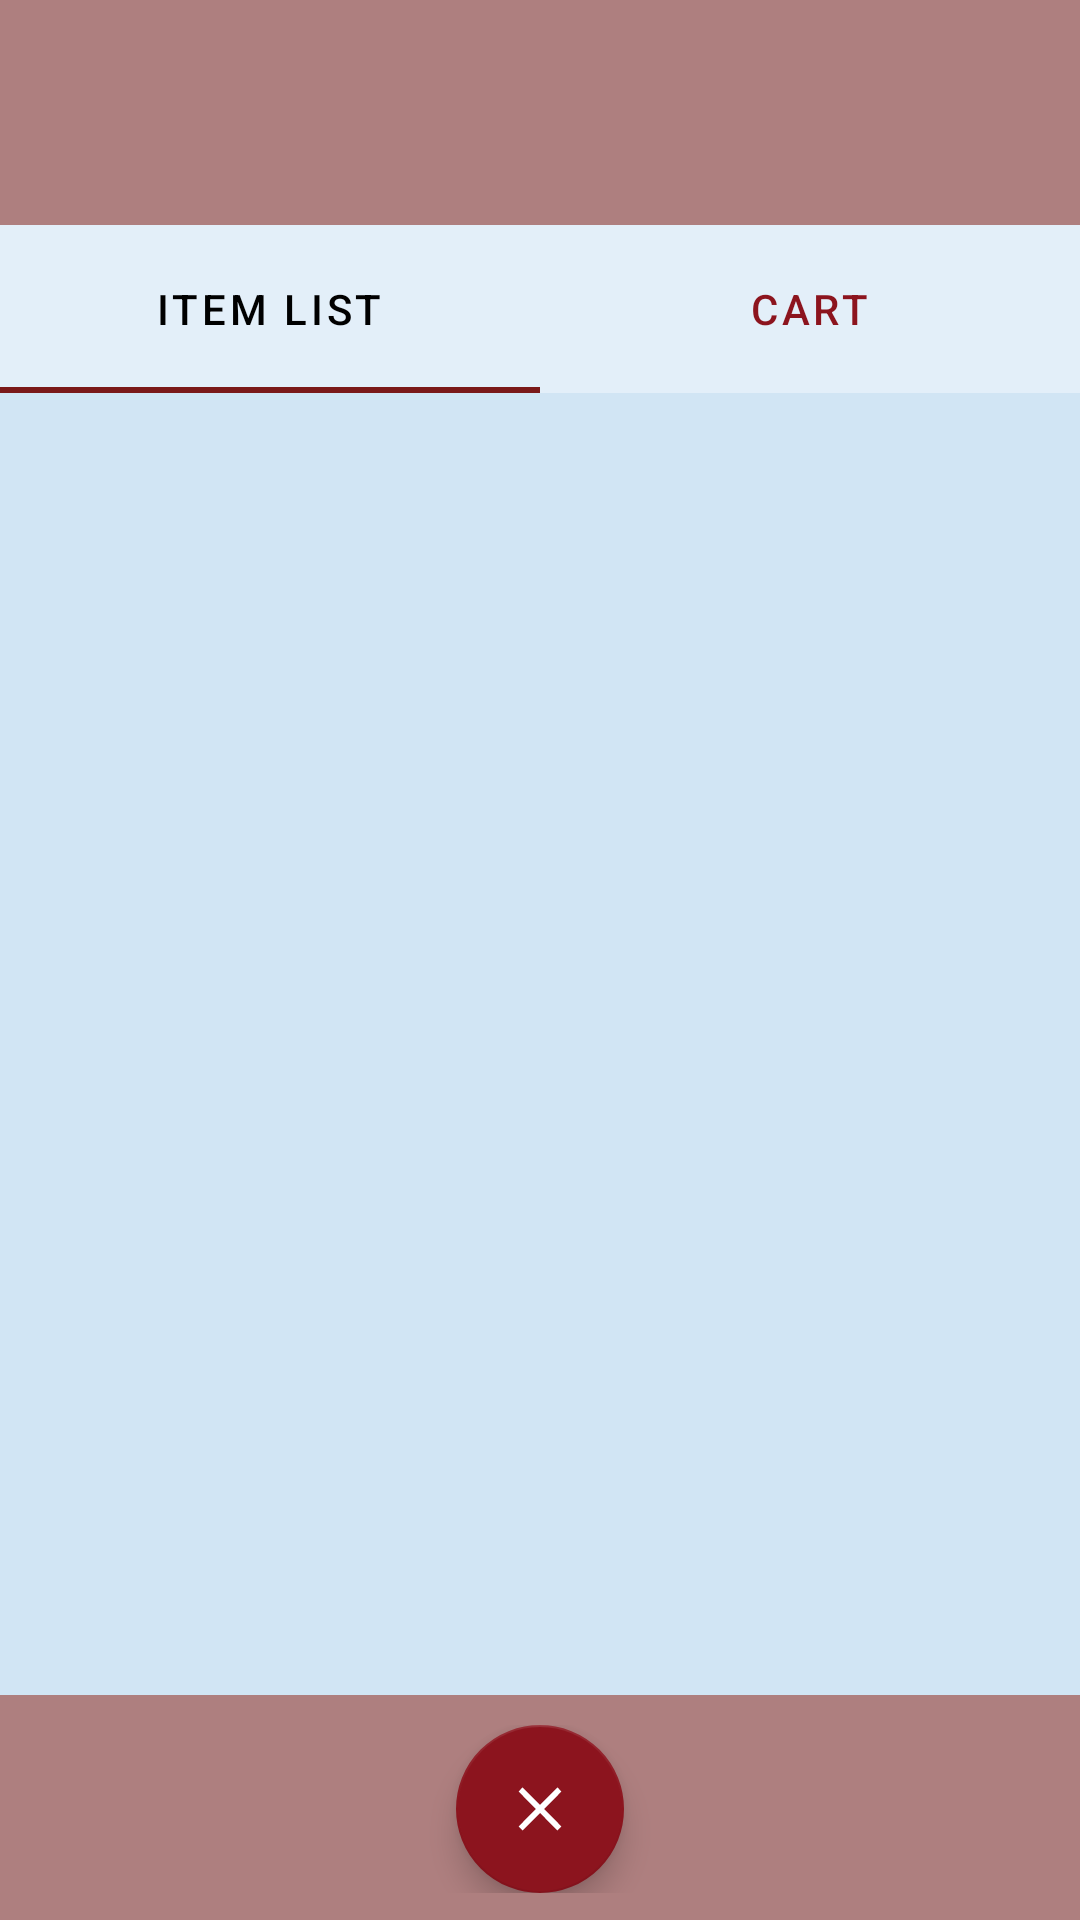

Icon click points for this 1080px×1920px phone screenshot, format (x,y):
Exit Button: (540,1809)
